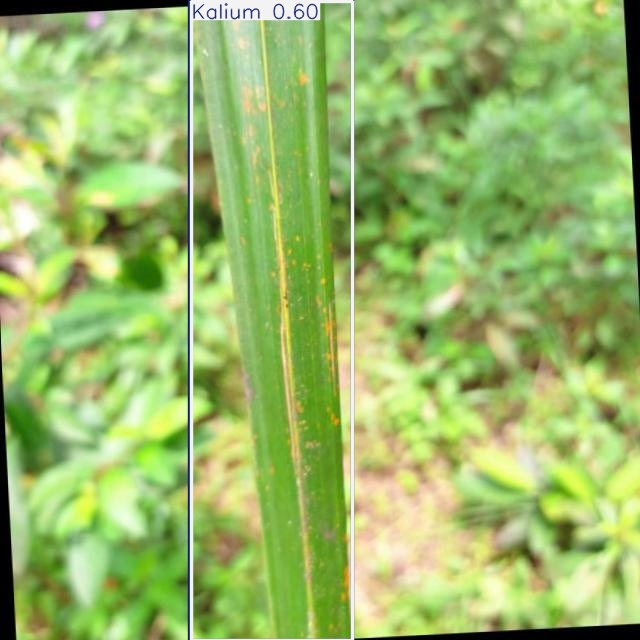Kalium: (192, 1, 353, 640)
nitrogen: (190, 0, 352, 640)
